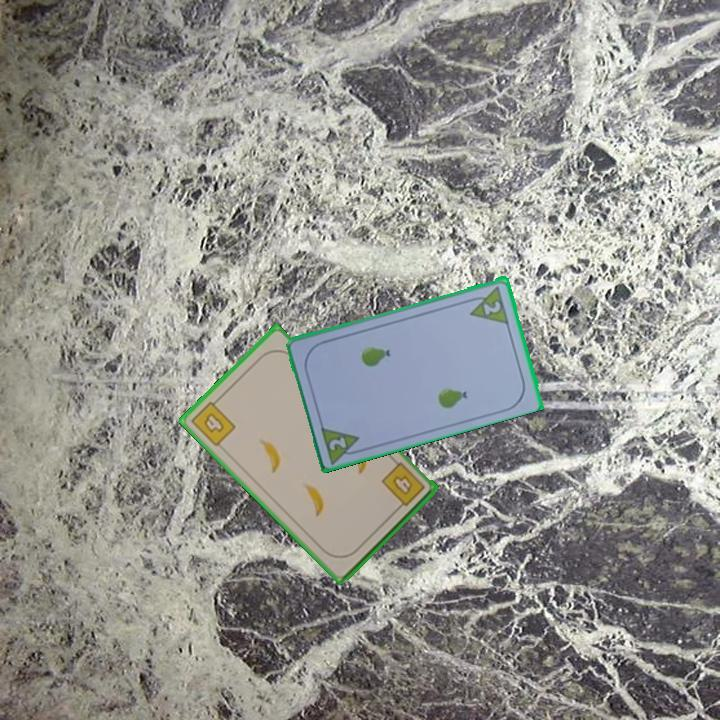2p: (464, 282, 512, 326), (325, 433, 350, 453)
4b: (187, 394, 239, 449), (377, 459, 428, 513)
